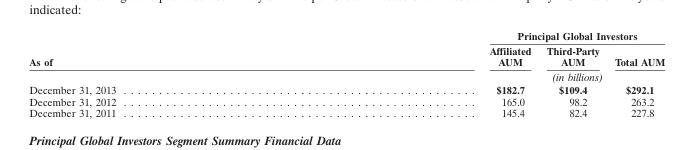table: (28, 28, 664, 118)
table column: (28, 28, 302, 118), (302, 28, 538, 118), (538, 28, 606, 118), (606, 28, 664, 118)
table column header: (28, 28, 664, 82)
table row: (28, 42, 664, 68), (28, 28, 664, 42), (28, 68, 664, 82), (28, 82, 664, 95), (28, 106, 664, 118), (28, 95, 664, 106)
table spanning cell: (28, 28, 302, 82), (302, 28, 664, 42), (302, 68, 664, 82)
